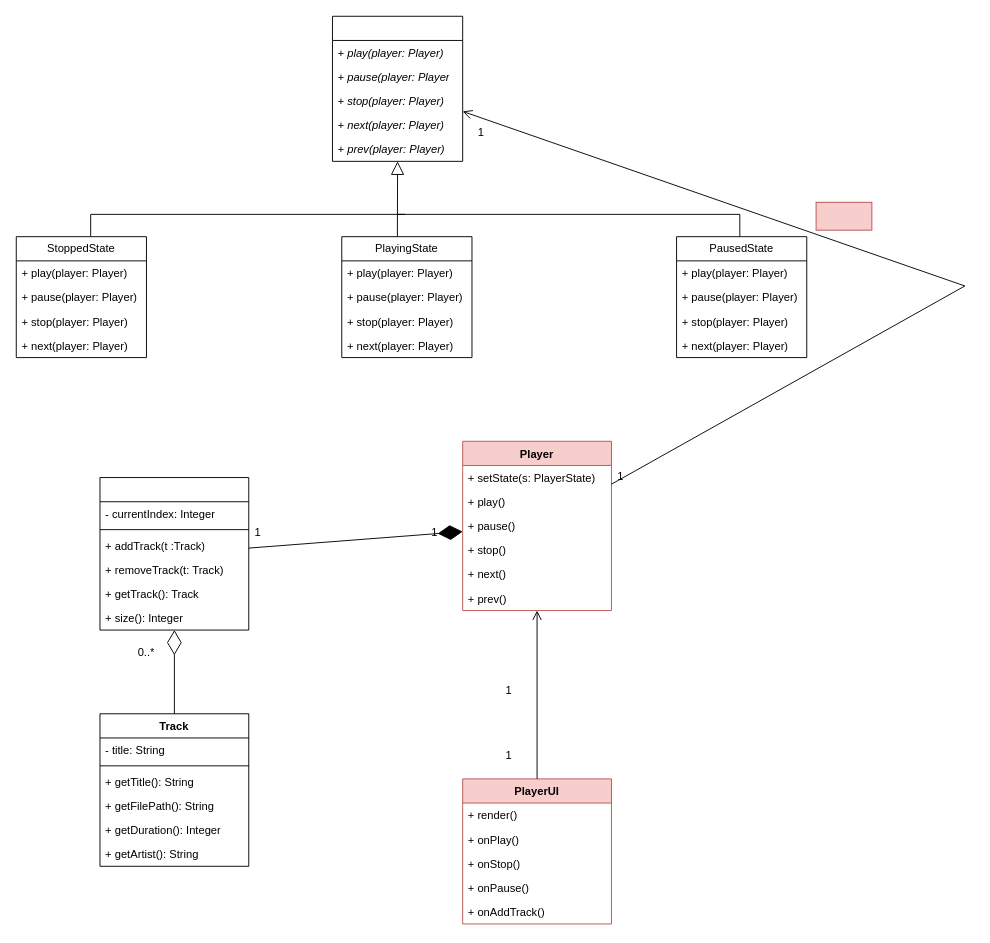
Image size: 990x943. Some labels were removed from this diagram. Each missing label, with the box of its shape:
PlayerState: (332, 15, 463, 161)
Playlist: (99, 477, 249, 630)
state: (815, 201, 872, 230)
